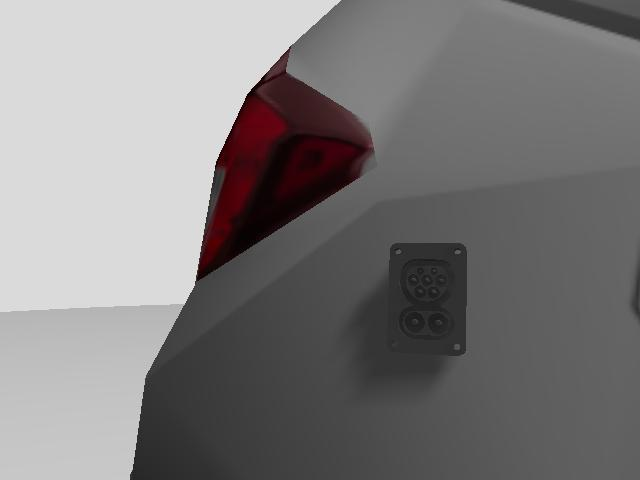EV-socket: (380, 239, 470, 358)
